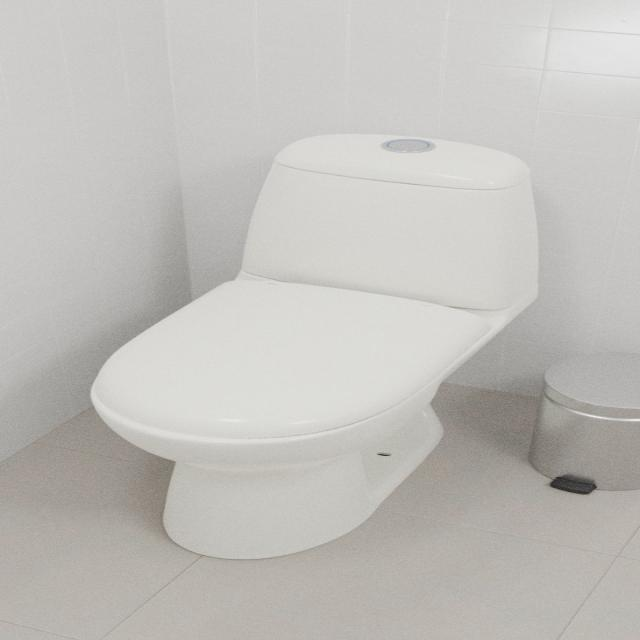toilet: (88, 132, 540, 560)
